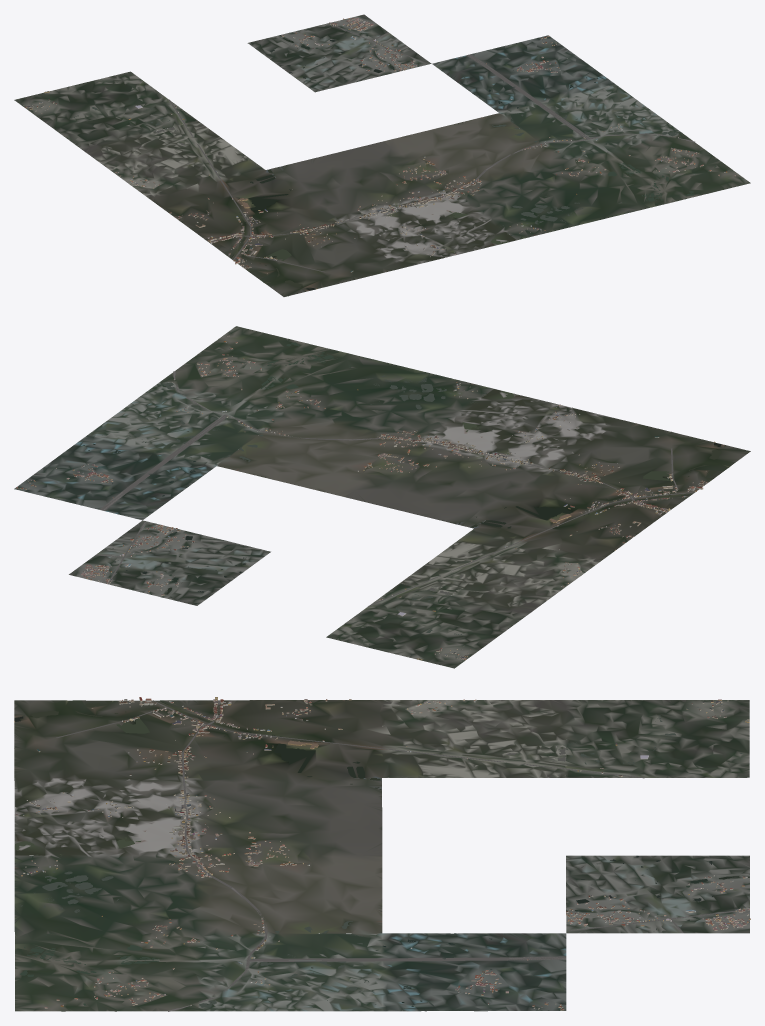
3 renders of one model, top to bottom at view 1: azimuth 30°, elevation 25°; view 2: azimuth 150°, elevation 25°; view 3: azimuth 270°, elevation 25°, orthographic. The views are drawn at different scales.
Parts seen in each view (by area): view 1: ground, buildings, water, roads; view 2: ground, buildings, water, roads; view 3: ground, buildings, water, roads.
Part boxes in pixels (x1,y1,x2,y2): ground: (14, 14, 750, 296); buildings: (23, 18, 735, 289); water: (70, 34, 716, 290); roads: (169, 24, 694, 272); ground: (14, 326, 750, 668); buildings: (16, 335, 715, 661); water: (72, 342, 721, 645); roads: (95, 371, 692, 606); ground: (14, 700, 749, 1011); buildings: (14, 697, 750, 1010); water: (14, 700, 749, 1010); roads: (56, 700, 749, 1011).
Size of the model in its own units: 5652 by 32.78 by 5621.
